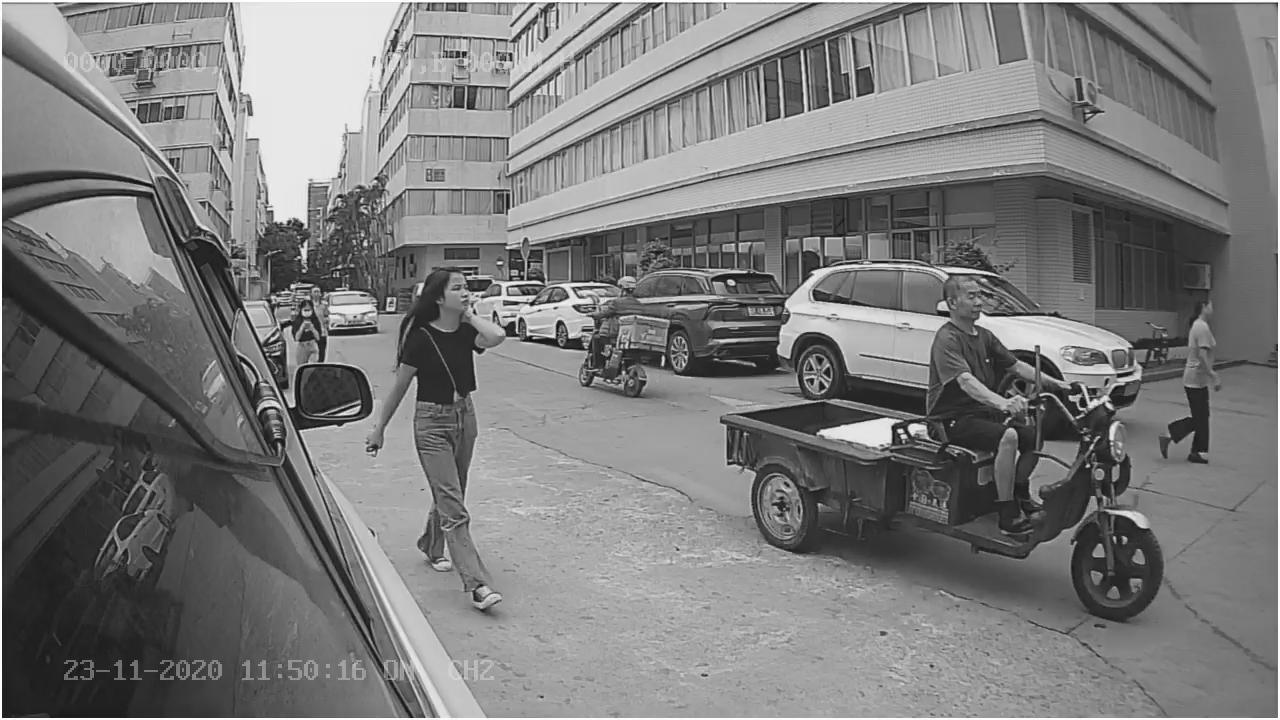person: (374, 254, 503, 475), (924, 267, 1065, 417), (1156, 286, 1218, 478)
